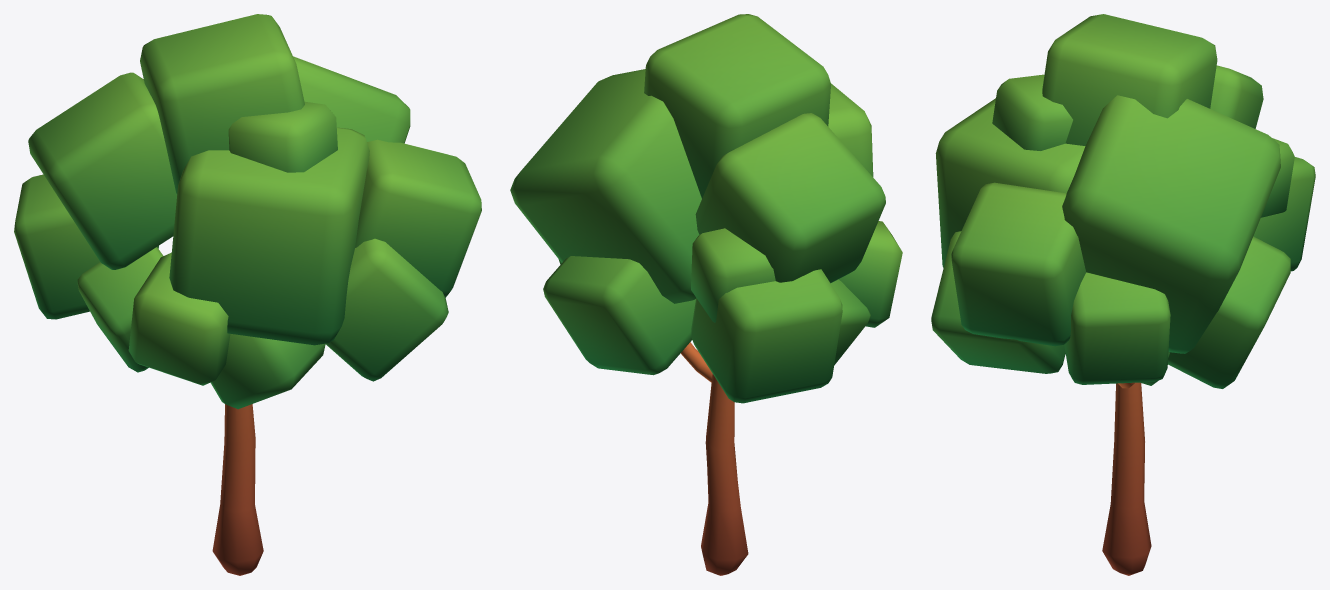
Rendered from Tree_2_E_Color1.glb.
The picture shows the model from 3 angles, left to right: view 1: azimuth 30°, elevation 25°; view 2: azimuth 150°, elevation 25°; view 3: azimuth 270°, elevation 25°; orthographic projection.
Parts seen in each view (by area): view 1: Tree_2_E_Color1; view 2: Tree_2_E_Color1; view 3: Tree_2_E_Color1.
Part boxes in pixels (bbox=[...]): Tree_2_E_Color1: bbox=[14, 14, 481, 575]; Tree_2_E_Color1: bbox=[510, 14, 902, 575]; Tree_2_E_Color1: bbox=[931, 14, 1315, 575].
Bounding box in the file's own units: 6.05 × 8.79 × 5.68.
1 material, 1 textured.
